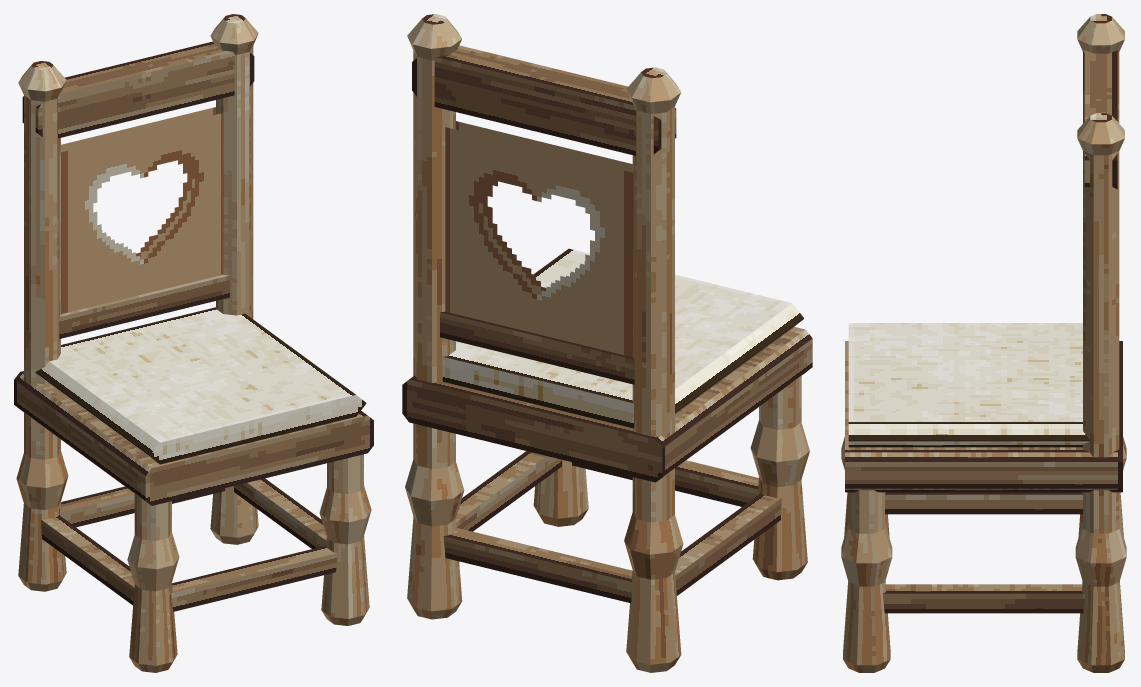
The model's file is chair.glb.
3 views of the same model, side by side, from view 1: azimuth 30°, elevation 25°; view 2: azimuth 150°, elevation 25°; view 3: azimuth 270°, elevation 25° (orthographic). The views are drawn at different scales.
Visible parts, largest first — view 1: seat, back0, leg2, apron, leg3, toprail, leg0, leg1, stretch0, lowrail, stretch2, stretch3 (+2 smaller); view 2: back1, leg2, leg3, apron, seat, toprail, leg0, stretch1, lowrail, stretch2, stretch3, back0 (+2 smaller); view 3: seat, leg3, apron, leg1, stretch3, stretch2, toprail, leg2.
Part boxes in pixels (box(x1,y1,x2,y2)): seat: box(35, 307, 366, 464); back0: box(61, 113, 222, 313); leg2: box(16, 61, 68, 591); apron: box(14, 371, 373, 505); leg3: box(210, 14, 258, 544); toprail: box(22, 41, 254, 138); leg0: box(127, 493, 179, 672); leg1: box(319, 454, 371, 625); stretch0: box(171, 545, 337, 611); lowrail: box(59, 274, 229, 338); stretch2: box(41, 515, 134, 605); stretch3: box(233, 478, 326, 548); back1: box(445, 127, 633, 357); leg2: box(624, 67, 683, 672); leg3: box(405, 14, 464, 619); apron: box(402, 327, 812, 482); seat: box(442, 248, 803, 428); toprail: box(412, 45, 676, 155); leg0: box(750, 375, 809, 580); stretch1: box(443, 528, 632, 603); lowrail: box(440, 311, 634, 384); stretch2: box(675, 493, 781, 595); stretch3: box(456, 451, 561, 531); back0: box(455, 121, 632, 295); seat: box(848, 323, 1089, 447); leg3: box(1075, 113, 1126, 672); apron: box(845, 341, 1122, 492); leg1: box(841, 490, 892, 672); stretch3: box(883, 584, 1084, 613); stretch2: box(885, 492, 1082, 514); toprail: box(1084, 50, 1117, 189); leg2: box(1077, 14, 1126, 537).
Size of the model in its own units: 0.4875 by 1.03 by 0.4875.
Materials: 2 (2 with a texture image).
